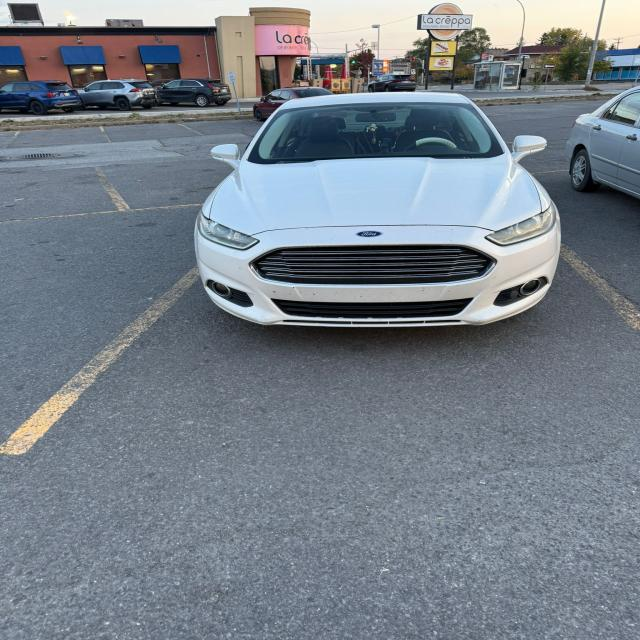plaque: (64, 92, 69, 95)
